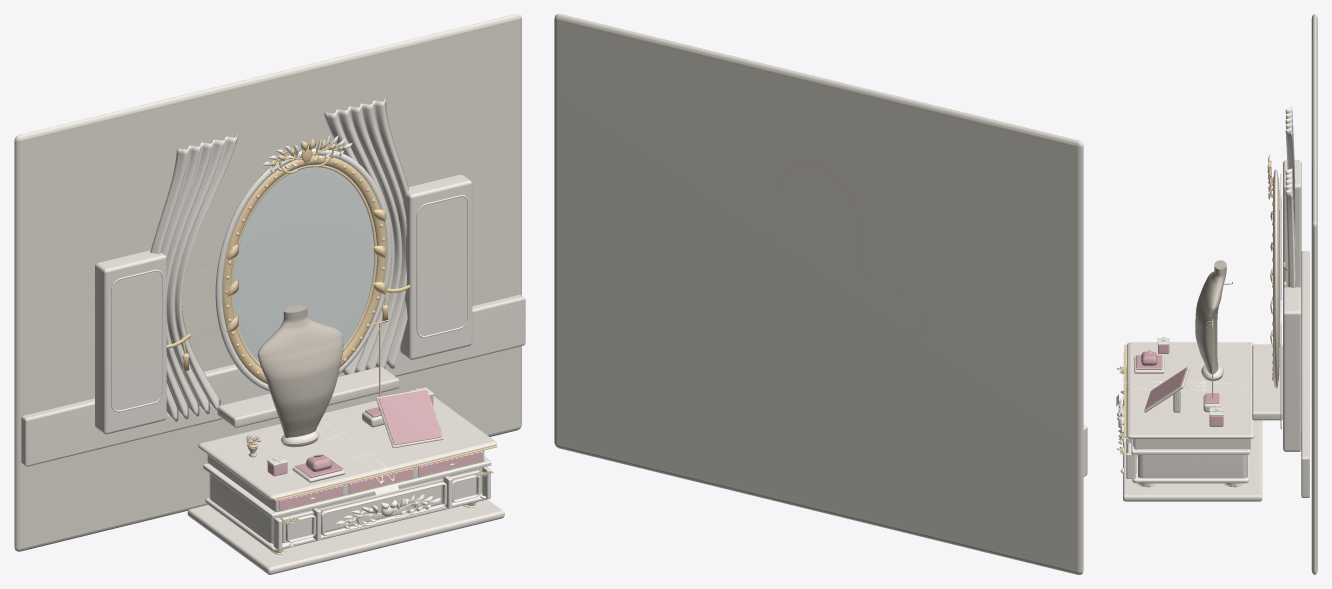
The model's file is main-display-scene.glb.
The picture shows the model from 3 angles, left to right: view 1: azimuth 30°, elevation 25°; view 2: azimuth 150°, elevation 25°; view 3: azimuth 270°, elevation 25°; orthographic projection. The views are drawn at different scales.
Visible parts, largest first — view 1: Fixed_Background_06 | warm oyster wall, Fixed_Background_01 | warm ivory lacquer, Fixed_01 | warm ivory lacquer, Fixed_Background_16 | softened silver mirror, Fixed_Background_08 | pale warm drapery, Fixed_Display | warm ivory velvet, Fixed_02 | ivory carved edges, Fixed_Background_04 | satin champagne brass, Fixed_Background_02 | ivory carved edges, Fixed_Display | pale blush suede, Fixed_07 | dusty blush silk, Fixed_Background_05 | champagne polished accents (+2 smaller); view 2: Fixed_Background_06 | warm oyster wall; view 3: Fixed_01 | warm ivory lacquer, Fixed_Background_01 | warm ivory lacquer, Fixed_Background_06 | warm oyster wall, Fixed_02 | ivory carved edges, Fixed_Display | warm ivory velvet, Fixed_Background_08 | pale warm drapery, Fixed_Background_02 | ivory carved edges, Fixed_Display | pale blush suede, Fixed_Background_04 | satin champagne brass, Fixed_04 | satin champagne brass, Fixed_09 | floral ecru lace cutout, Fixed_07 | dusty blush silk.
Boxes of the visible parts, bbox=[...] form: Fixed_Background_06 | warm oyster wall: bbox=[14, 14, 521, 551]; Fixed_Background_01 | warm ivory lacquer: bbox=[21, 135, 525, 466]; Fixed_01 | warm ivory lacquer: bbox=[187, 389, 504, 574]; Fixed_Background_16 | softened silver mirror: bbox=[233, 167, 374, 362]; Fixed_Background_08 | pale warm drapery: bbox=[150, 97, 408, 422]; Fixed_Display | warm ivory velvet: bbox=[257, 305, 343, 437]; Fixed_02 | ivory carved edges: bbox=[203, 387, 491, 551]; Fixed_Background_04 | satin champagne brass: bbox=[166, 138, 410, 384]; Fixed_Background_02 | ivory carved edges: bbox=[111, 135, 468, 412]; Fixed_Display | pale blush suede: bbox=[296, 390, 441, 477]; Fixed_07 | dusty blush silk: bbox=[267, 395, 482, 510]; Fixed_Background_05 | champagne polished accents: bbox=[225, 158, 385, 380]; Fixed_Background_06 | warm oyster wall: bbox=[554, 14, 1083, 574]; Fixed_01 | warm ivory lacquer: bbox=[1118, 342, 1262, 501]; Fixed_Background_01 | warm ivory lacquer: bbox=[1252, 154, 1309, 497]; Fixed_Background_06 | warm oyster wall: bbox=[1311, 14, 1317, 574]; Fixed_02 | ivory carved edges: bbox=[1117, 338, 1249, 483]; Fixed_Display | warm ivory velvet: bbox=[1195, 260, 1232, 373]; Fixed_Background_08 | pale warm drapery: bbox=[1285, 107, 1295, 288]; Fixed_Background_02 | ivory carved edges: bbox=[1268, 155, 1281, 429]; Fixed_Display | pale blush suede: bbox=[1136, 350, 1219, 408]; Fixed_Background_04 | satin champagne brass: bbox=[1267, 160, 1287, 381]; Fixed_04 | satin champagne brass: bbox=[1117, 344, 1242, 486]; Fixed_09 | floral ecru lace cutout: bbox=[1116, 381, 1245, 406]; Fixed_07 | dusty blush silk: bbox=[1133, 345, 1223, 446].
Size of the model in its own units: 0.7703 by 0.6045 by 0.3114.
Materials: 15 (5 with a texture image).
